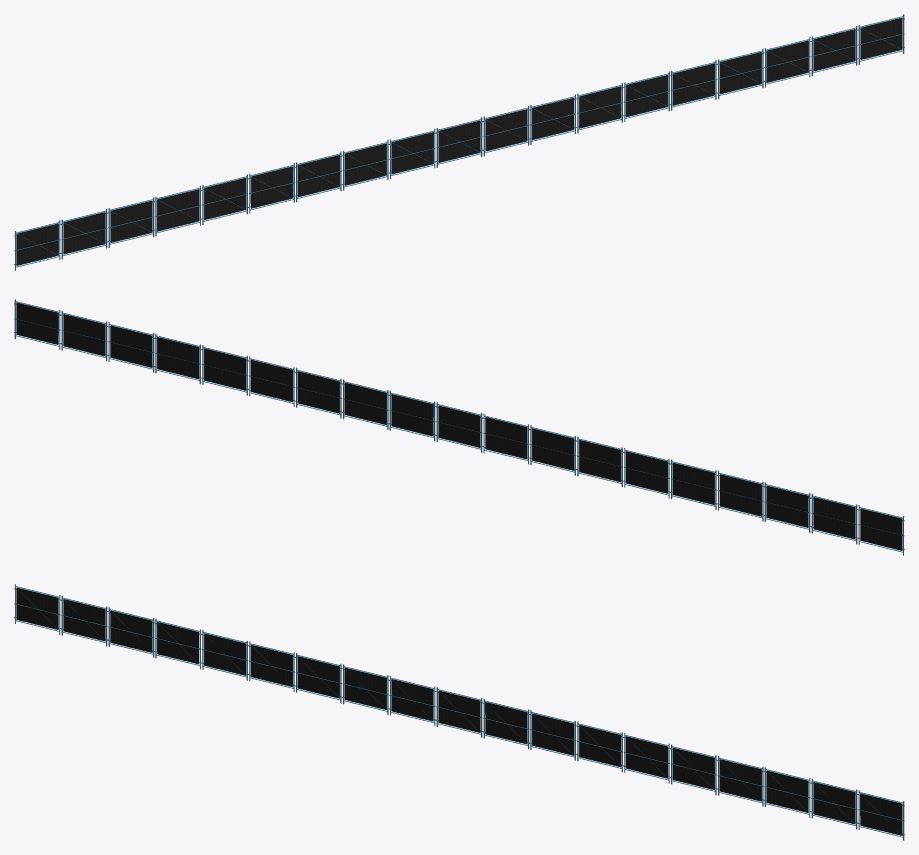
Rendered from fence.fbx.
3 renders of one model, top to bottom at view 1: azimuth 30°, elevation 25°; view 2: azimuth 150°, elevation 25°; view 3: azimuth 330°, elevation 25°, orthographic.
Visible parts, largest first — view 1: fence; view 2: fence; view 3: fence.
Boxes of the visible parts, <box> form: fence: <box>14,14,904,270</box>; fence: <box>14,299,904,555</box>; fence: <box>14,584,904,840</box>.
Bounding box in the file's own units: 2556 × 109 × 4.43.
